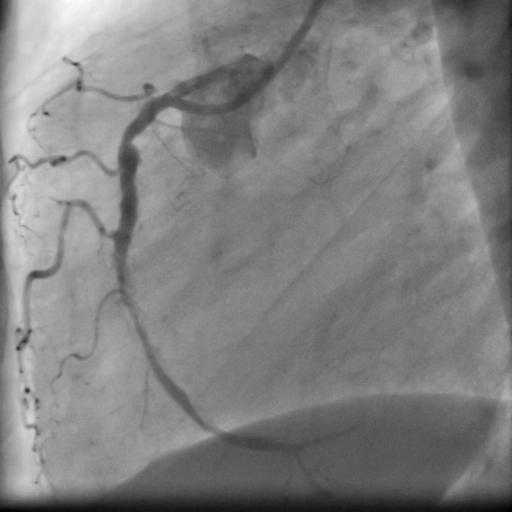Stenosis: (119, 122, 139, 147)
